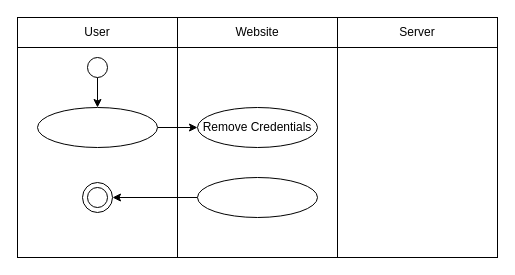
The diagram is 515 pixels wide and 275 high, and some of its shapes have lost their labels. The centre of each missing label's shape, as x and y in pixels:
"Click Logout" belongs at point (97, 127).
"Return to login" belongs at point (257, 197).
